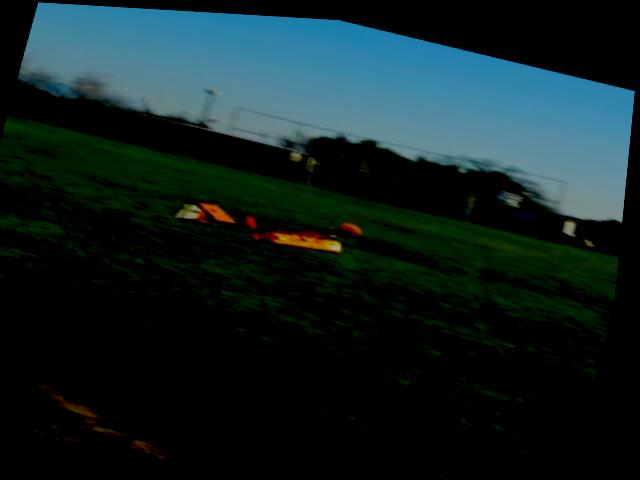iha: (168, 161, 385, 267)
